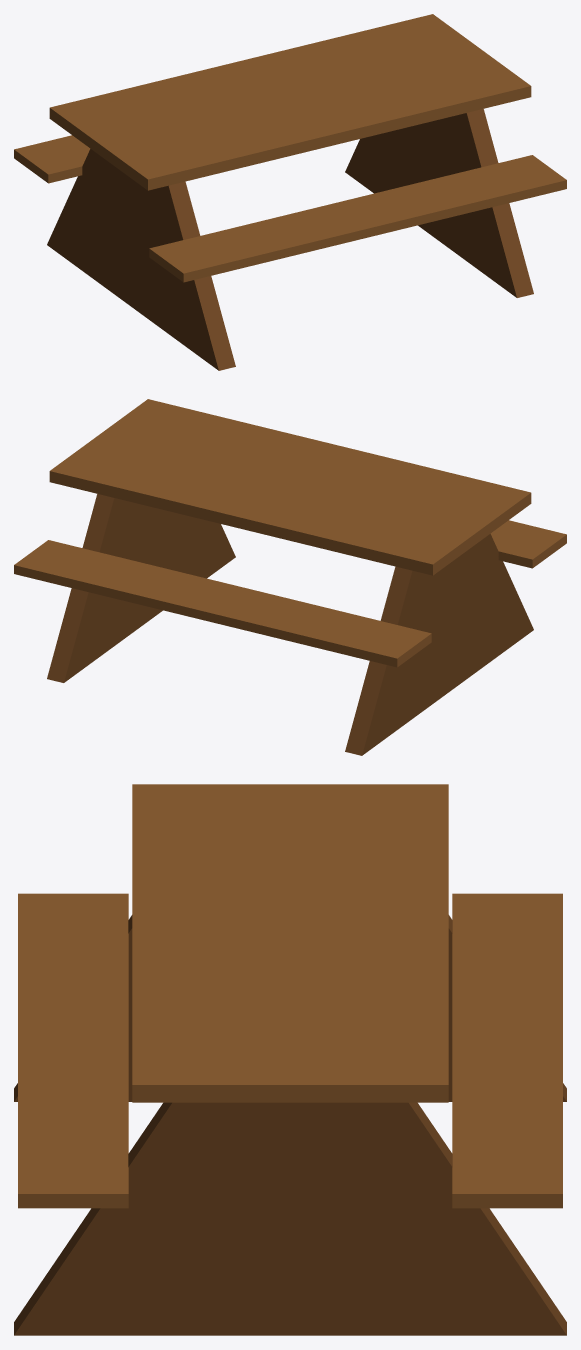
File: picnic_table.glb
3 renders of one model, top to bottom at view 1: azimuth 30°, elevation 25°; view 2: azimuth 150°, elevation 25°; view 3: azimuth 270°, elevation 25°, orthographic. The views are drawn at different scales.
Parts seen in each view (by area): view 1: picnic_table; view 2: picnic_table; view 3: picnic_table.
Boxes of the visible parts, left/top/right/bottom form: picnic_table: left=14, top=14, right=566, bottom=370; picnic_table: left=14, top=399, right=566, bottom=755; picnic_table: left=14, top=784, right=566, bottom=1335.
Size of the model in its own units: 1.8 by 0.775 by 1.4.
